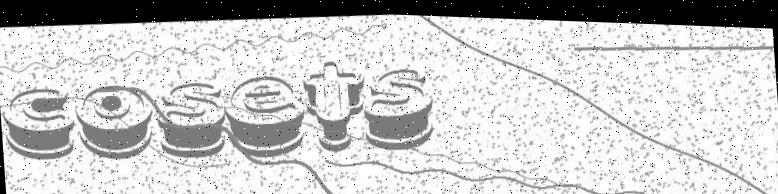c: (1, 83, 78, 164)
e: (223, 70, 307, 158)
o: (74, 79, 154, 162)
s: (361, 61, 437, 151), (153, 76, 228, 160)
t: (302, 54, 366, 152)
